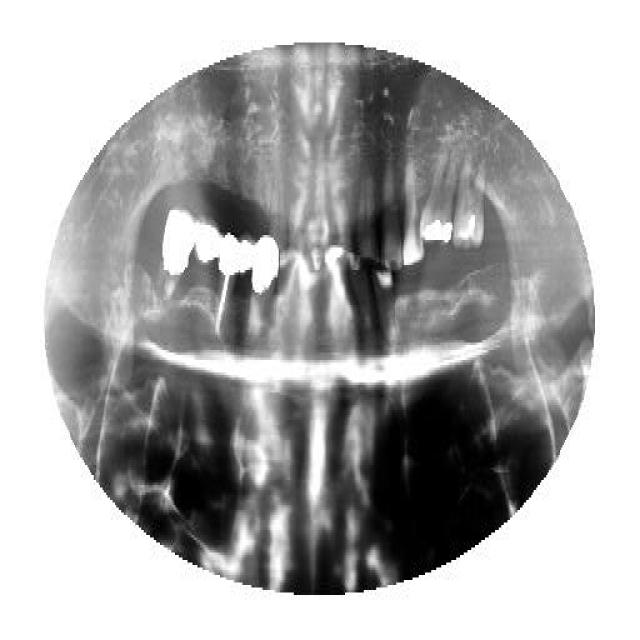Fillings: (418, 145, 458, 247), (155, 208, 195, 302), (453, 155, 485, 250), (251, 235, 280, 325), (194, 215, 218, 273), (238, 235, 254, 300)
Implant: (212, 230, 242, 340)
